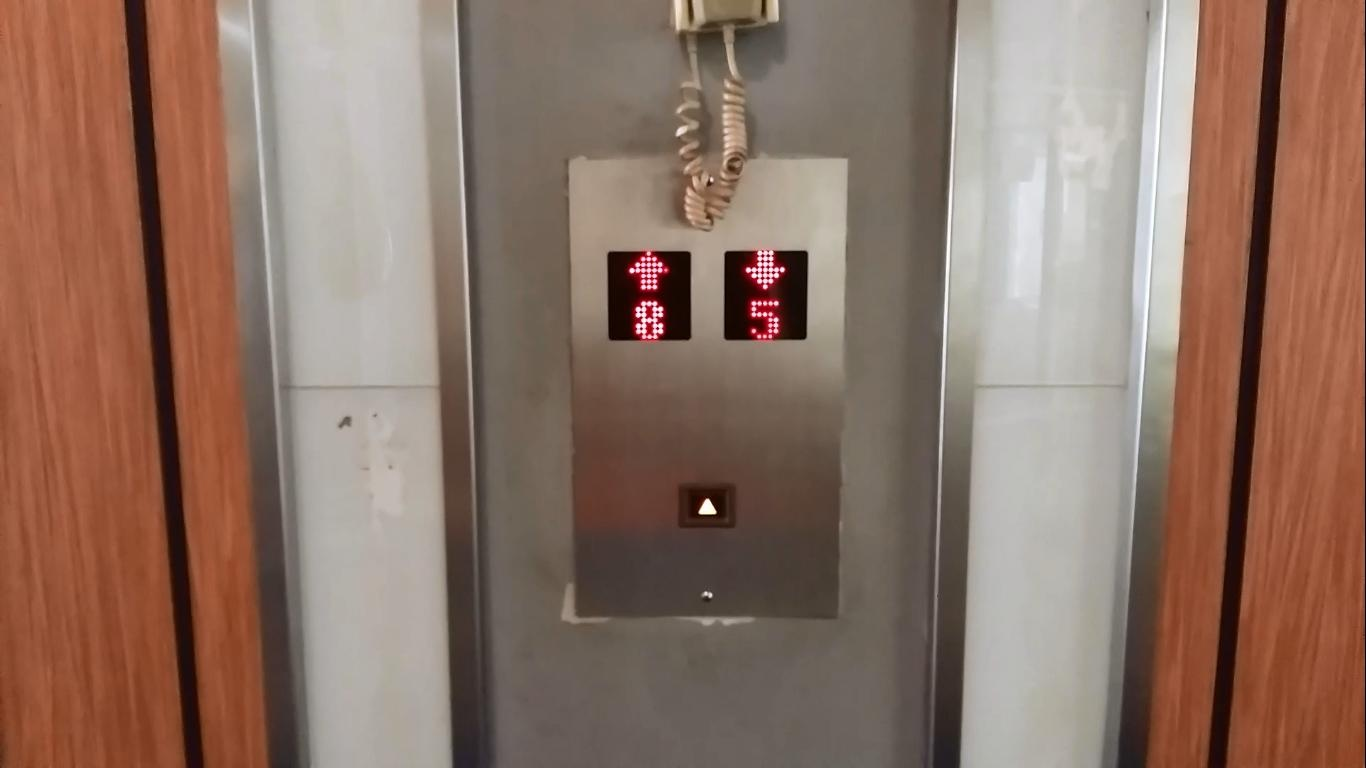led: (722, 247, 808, 343), (606, 248, 691, 342)
up: (678, 482, 739, 533)
